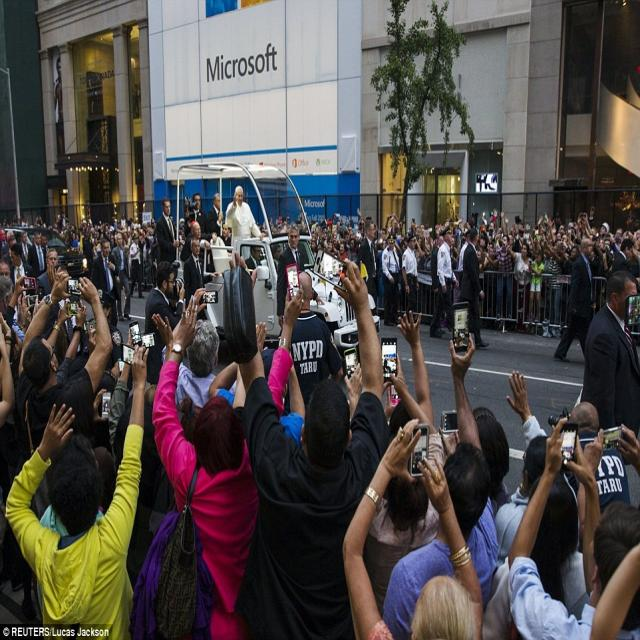body: (217, 241, 386, 639), (149, 259, 307, 639), (0, 216, 173, 477), (3, 342, 150, 639), (380, 301, 500, 639), (340, 415, 485, 640), (506, 414, 639, 640), (448, 405, 592, 603), (254, 208, 640, 268), (361, 350, 446, 621), (14, 264, 114, 458), (492, 368, 582, 569), (579, 267, 640, 468), (160, 285, 238, 422), (281, 270, 344, 417), (566, 401, 632, 517), (552, 236, 598, 366), (143, 260, 186, 386), (275, 223, 326, 329), (458, 228, 490, 347), (51, 264, 88, 362), (182, 235, 221, 322), (224, 185, 264, 267), (428, 223, 456, 340), (458, 227, 481, 346), (90, 237, 120, 328), (353, 217, 381, 312), (539, 236, 562, 339), (506, 239, 531, 332), (179, 219, 218, 277), (381, 232, 403, 328), (48, 57, 64, 184), (492, 232, 514, 322), (112, 232, 133, 324), (206, 192, 226, 288), (155, 197, 181, 264), (429, 234, 445, 336), (402, 235, 419, 324), (528, 247, 546, 325), (182, 192, 208, 242), (26, 230, 48, 287), (35, 248, 59, 299), (9, 241, 35, 288), (128, 233, 144, 300), (609, 237, 634, 276), (17, 230, 34, 277), (245, 245, 263, 277), (475, 172, 498, 196), (330, 236, 348, 265), (271, 244, 283, 275), (347, 237, 359, 267), (70, 231, 80, 250)
